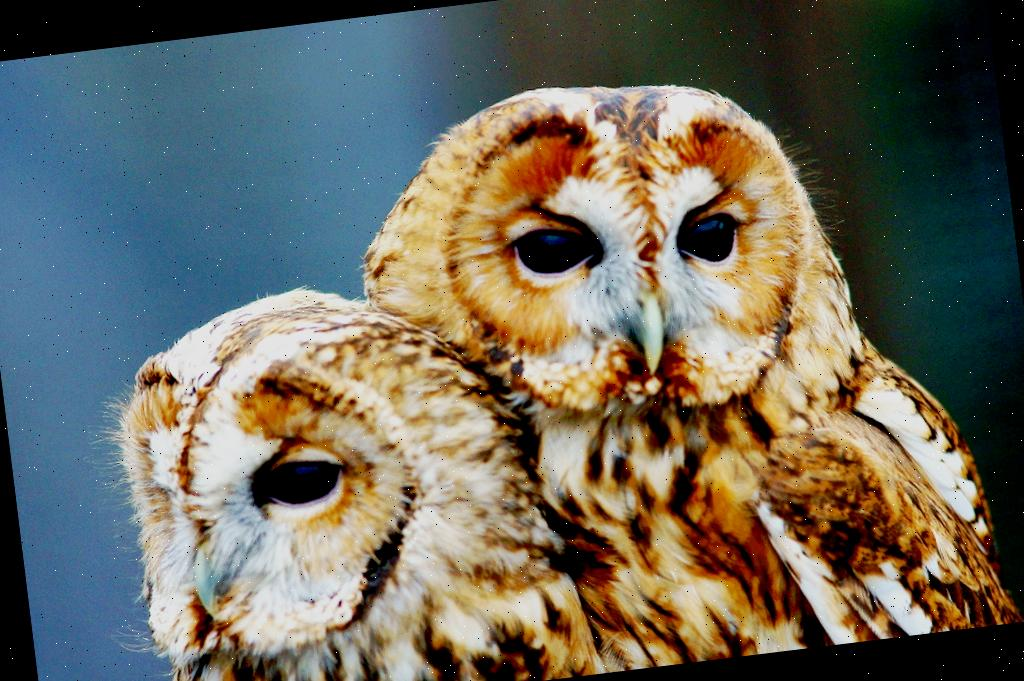Owl: (339, 35, 1024, 681), (82, 242, 598, 681)
